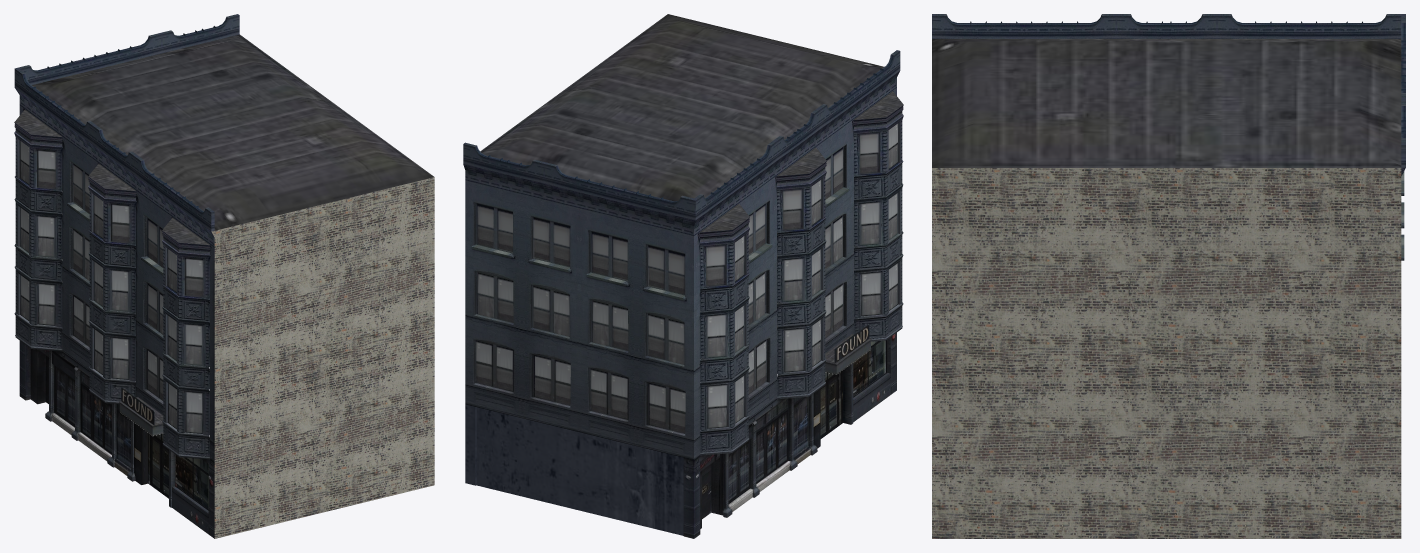
The model's file is building3blue.fbx.
3 renders of one model, left to right at view 1: azimuth 30°, elevation 25°; view 2: azimuth 150°, elevation 25°; view 3: azimuth 270°, elevation 25°, orthographic. The views are drawn at different scales.
Visible parts, largest first — view 1: Bricks; view 2: Bricks; view 3: Bricks.
Boxes of the visible parts, x1=… form: Bricks: x1=14, y1=14, x2=434, y2=538; Bricks: x1=463, y1=14, x2=903, y2=538; Bricks: x1=932, y1=14, x2=1405, y2=538.
Bounding box in the file's own units: 3438 × 4449 × 4850.
Materials: 3 (2 with a texture image).
